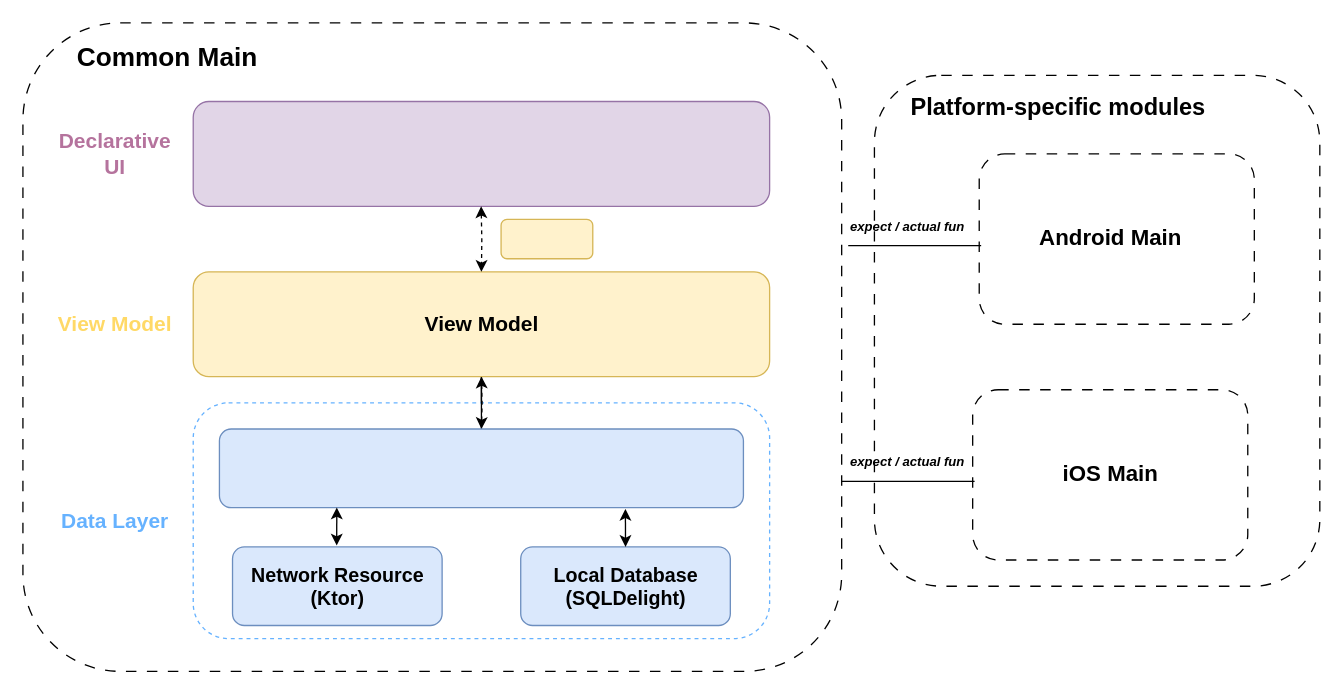
Image size: 1343x694. Some labels were removed from this diagram. The shapes that lost their labels are listed below. From the top down, each one's centre as x and y in pixels, then its label:
At [481,153]: "Multiplatform Composable (Android / iOS)".
At [546,238]: "UI State".
At [480,468]: "Repository".
